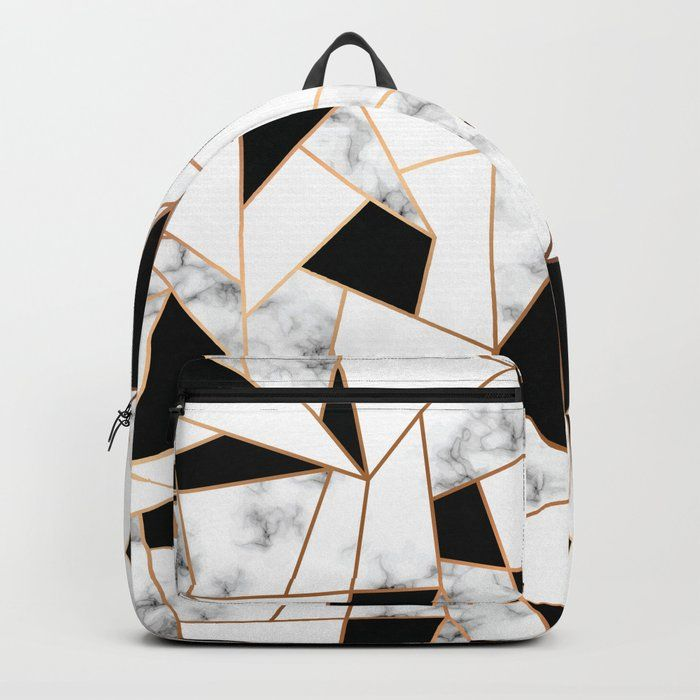nylon: (123, 84, 576, 648)
